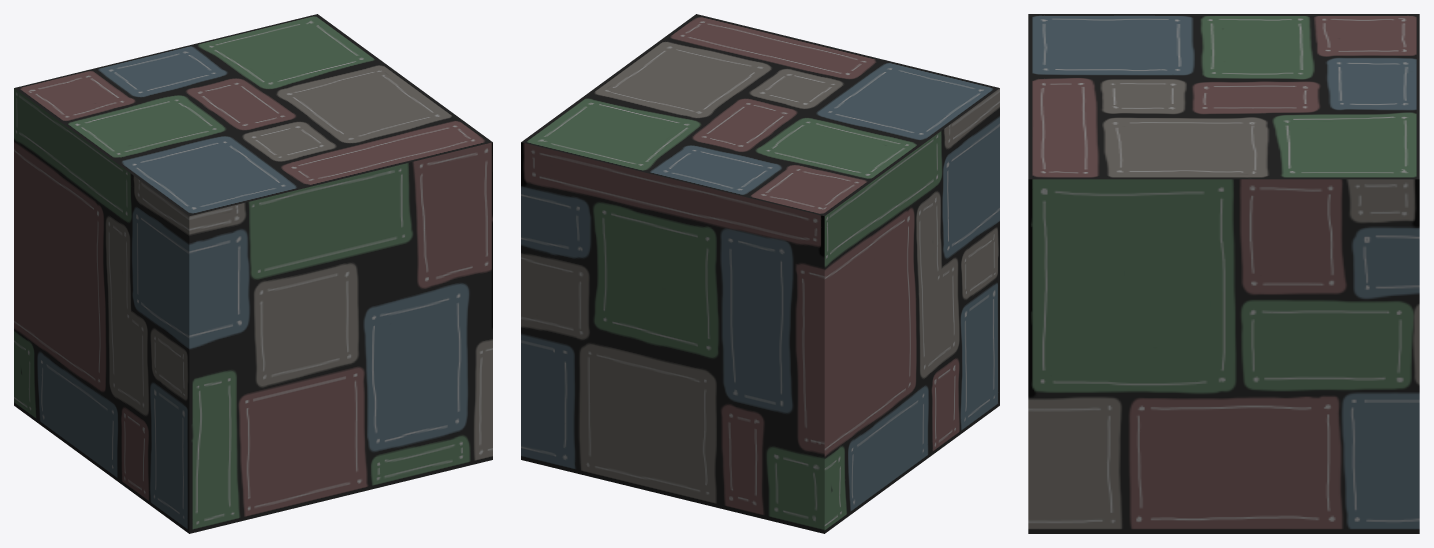
File: Dechets.FBX
3 renders of one model, left to right at view 1: azimuth 30°, elevation 25°; view 2: azimuth 150°, elevation 25°; view 3: azimuth 270°, elevation 25°, orthographic. The views are drawn at different scales.
Parts seen in each view (by area): view 1: Box001; view 2: Box001; view 3: Box001.
Boxes of the visible parts, box(x1,y1,x2,y2) form: Box001: box(14, 14, 492, 533); Box001: box(521, 14, 999, 533); Box001: box(1028, 14, 1419, 533).
Bounding box in the file's own units: 30 × 30 × 30.
Materials: 1 (1 with a texture image).
